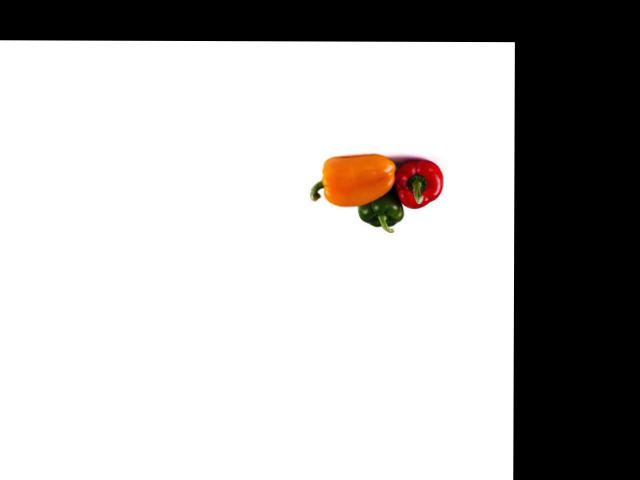bell_pepper: (353, 186, 408, 233)
